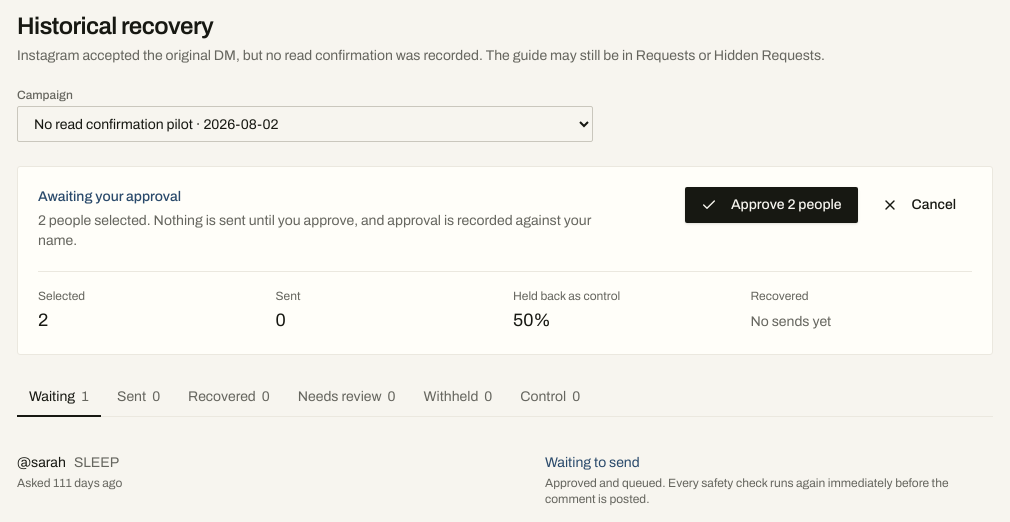
Scenario: HistoricalRecovery › lets the operator select a campaign and shows phase-safe copy
Select "Confirmed delivery failures · 2026-08-01" in the dropdown labelled "Campaign": (305, 124) [17,106,593,142]
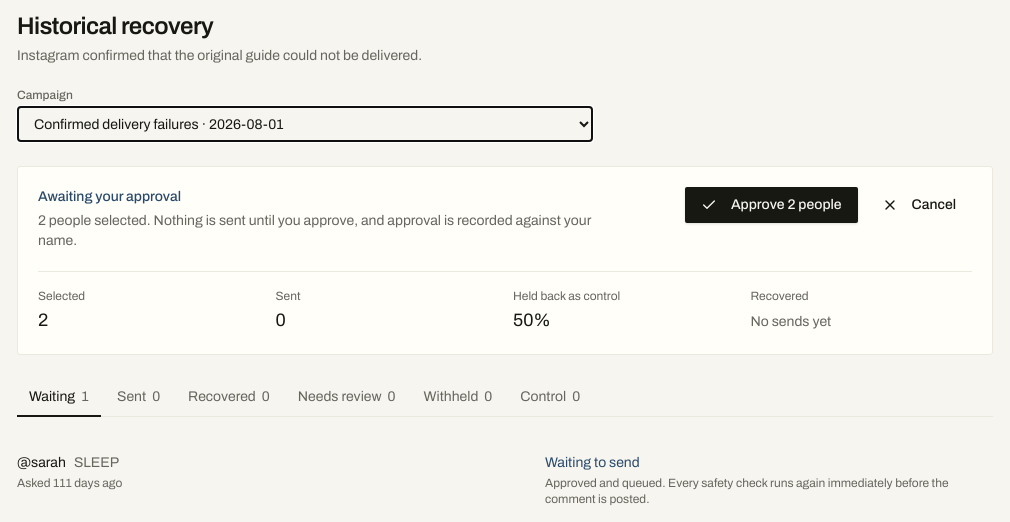
Result: the text "original guide could not be delivered" is shown at [17,48,422,63]
